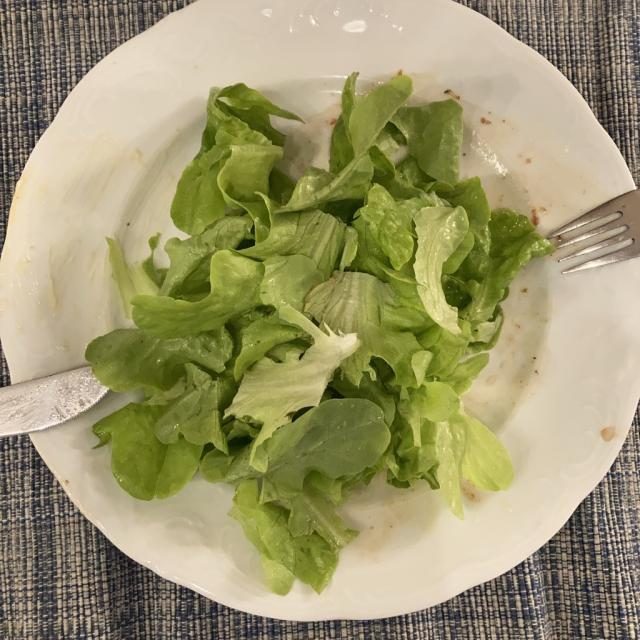salad-leaf-salad-green: (100, 83, 536, 586)
